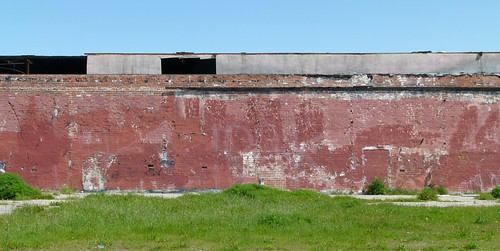grass: (3, 191, 500, 251)
sky: (1, 1, 500, 52)
wall: (1, 53, 495, 197)
